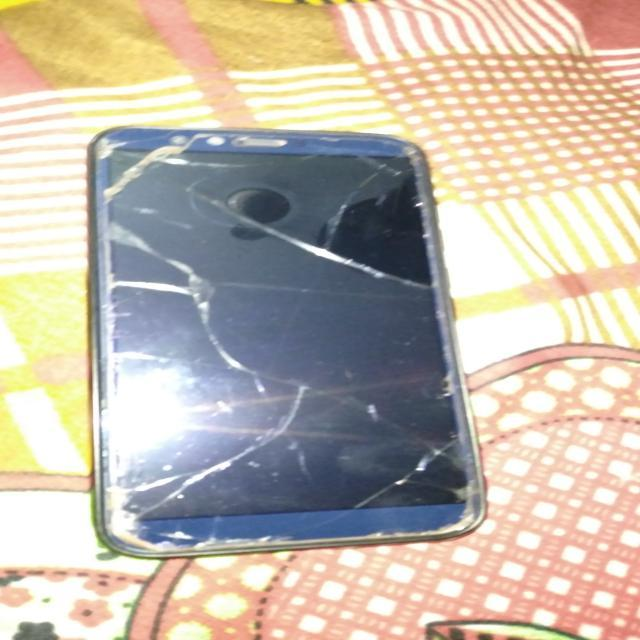screen crack: (69, 120, 496, 565)
